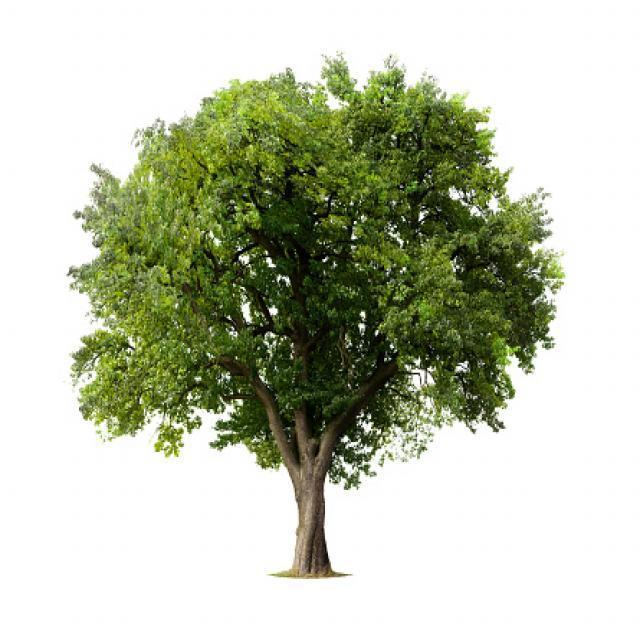tree: (66, 56, 562, 576)
